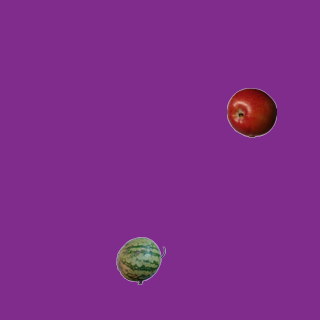Apple Braeburn: (226, 87, 276, 137)
Watermelon: (115, 235, 165, 285)
